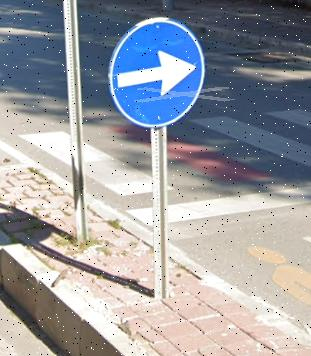turnright: (115, 23, 202, 125)
